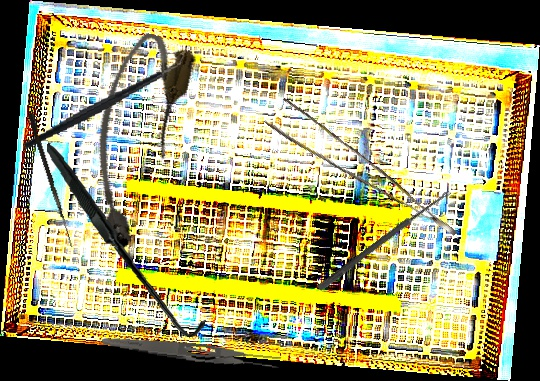Cannula: (68, 27, 200, 254)
Chopper: (14, 49, 195, 151)
Dressing Forceps: (100, 333, 282, 373)
Hook Surgical: (34, 142, 218, 338), (25, 112, 79, 248)
Surgical Spoon: (317, 187, 452, 293)
Tissue Forceps: (264, 89, 457, 265)
